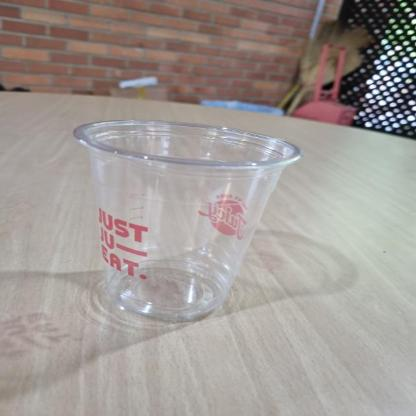Plastic Cup: (78, 119, 304, 325)
